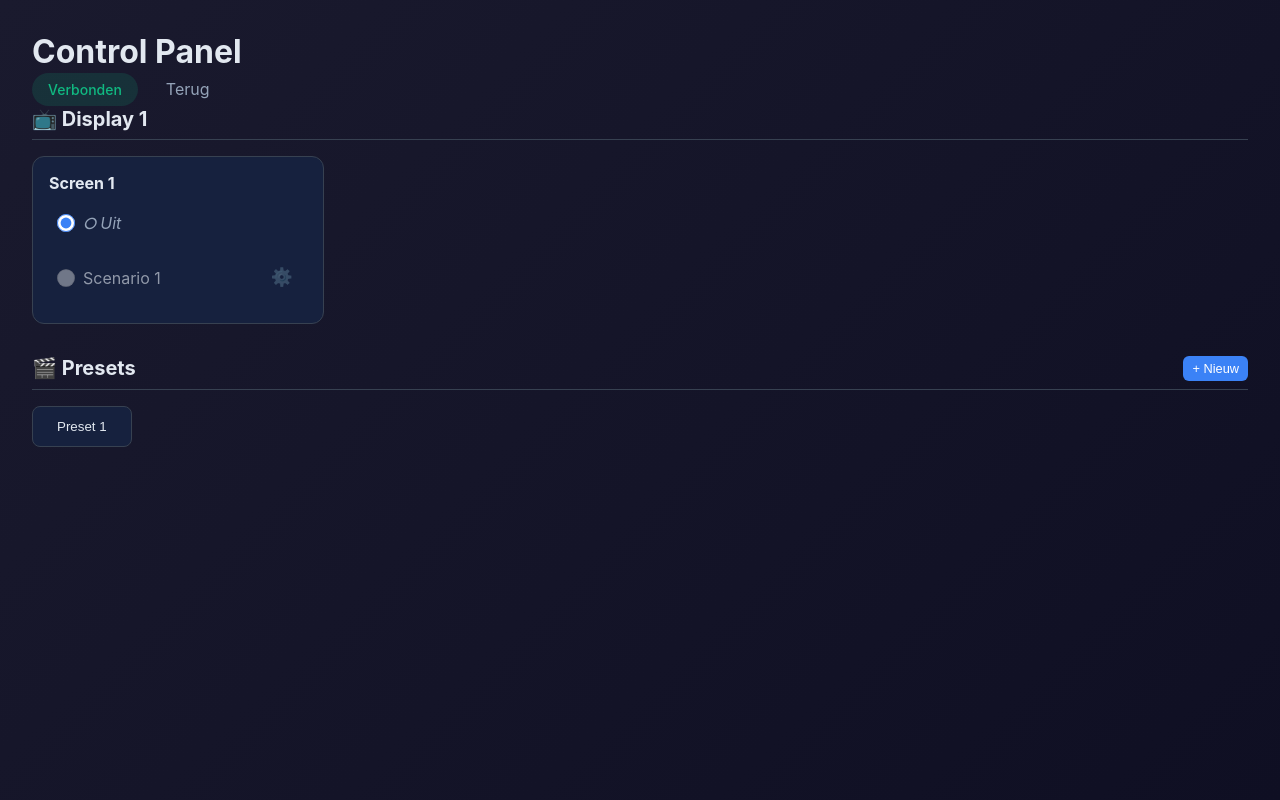
Test: Control page › SceneSettingsModal component › closes modal on cancel
Click the button titled "Instellingen".
click(282, 278)  # box left=264, top=261, right=299, bottom=295
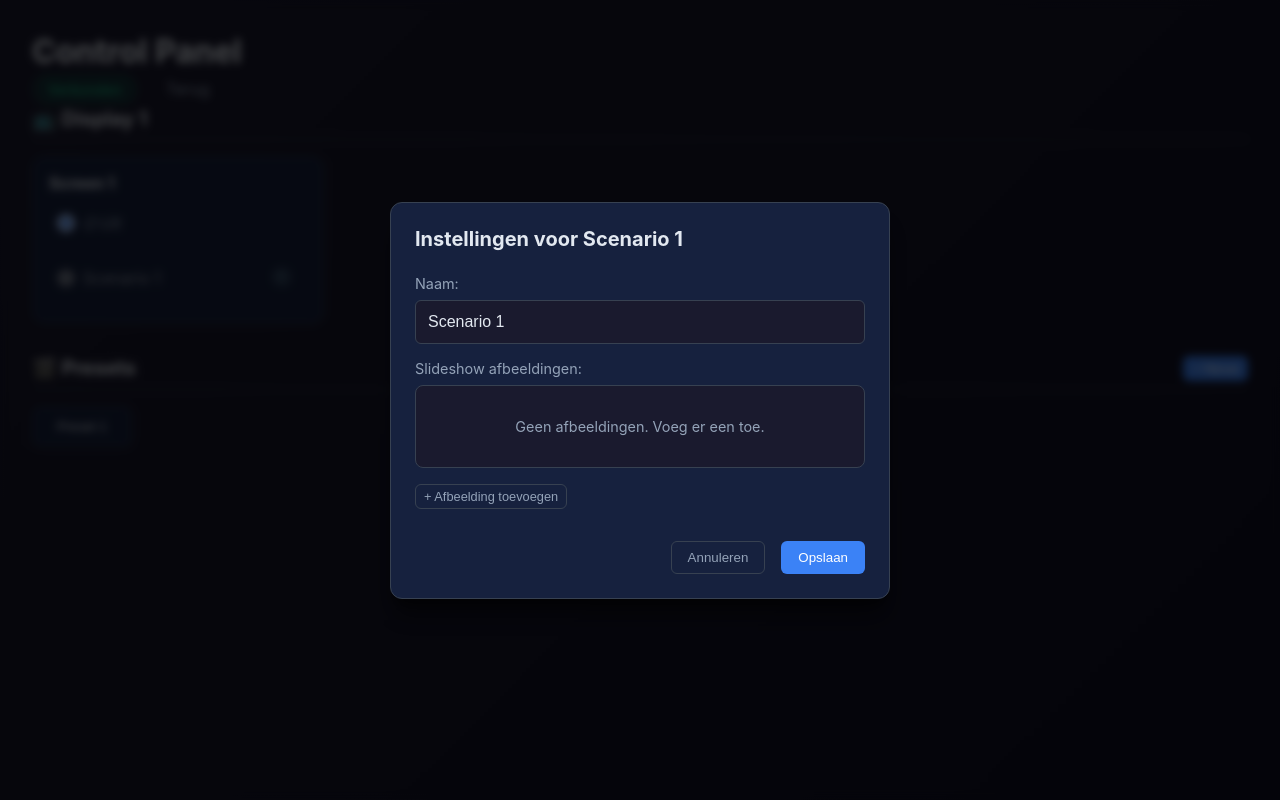
Check: the heading "Instellingen voor Scenario 1" is shown, box left=415, top=226, right=683, bottom=250
Click the button "Annuleren".
click(718, 557)  # box left=671, top=540, right=765, bottom=574
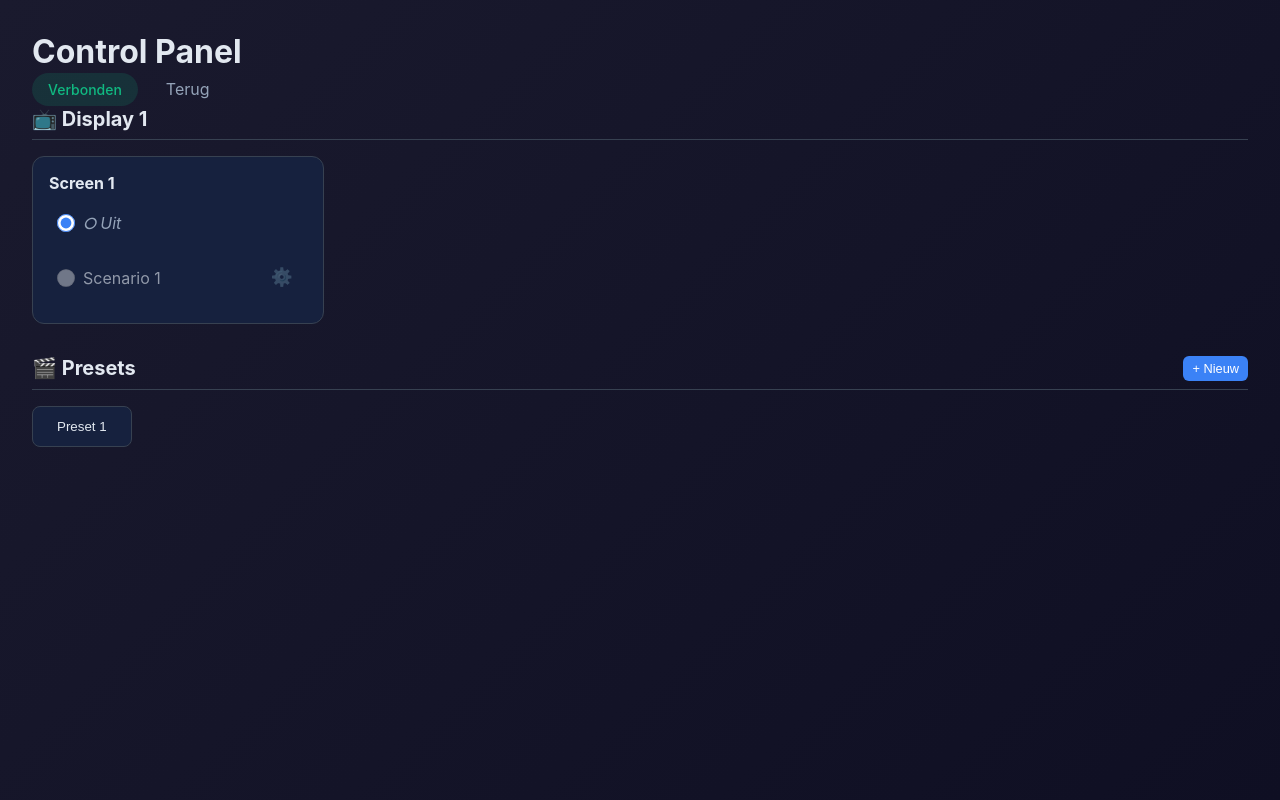
Check: the heading "Instellingen voor Scenario 1" is gone
